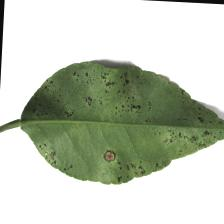canker: (76, 73, 144, 113)
